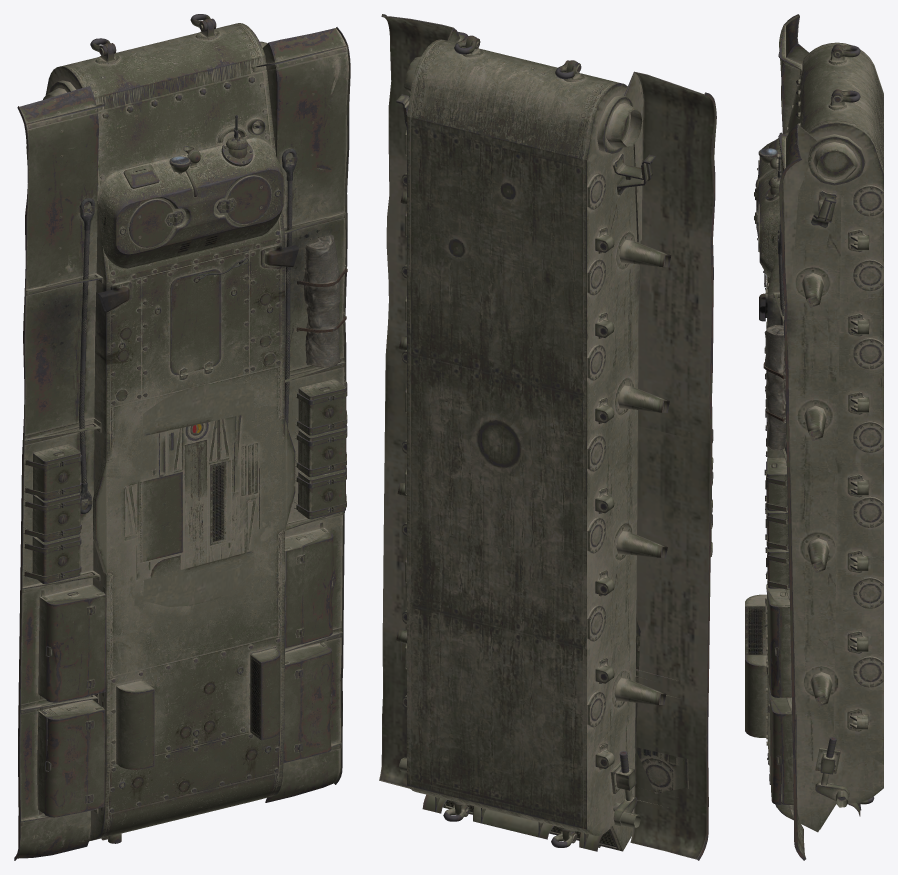
The model's file is Hull.glb.
The picture shows the model from 3 angles, left to right: view 1: azimuth 30°, elevation 25°; view 2: azimuth 150°, elevation 25°; view 3: azimuth 270°, elevation 25°; orthographic projection. The views are drawn at different scales.
Parts seen in each view (by area): view 1: set_0_group_0; view 2: set_0_group_0; view 3: set_0_group_0.
Boxes of the visible parts, left/top/right/bottom form: set_0_group_0: left=14, top=14, right=350, bottom=860; set_0_group_0: left=379, top=14, right=716, bottom=860; set_0_group_0: left=745, top=14, right=883, bottom=860.
Size of the model in its own units: 3.93 by 9.13 by 1.58.
Materials: 1 (1 with a texture image).
